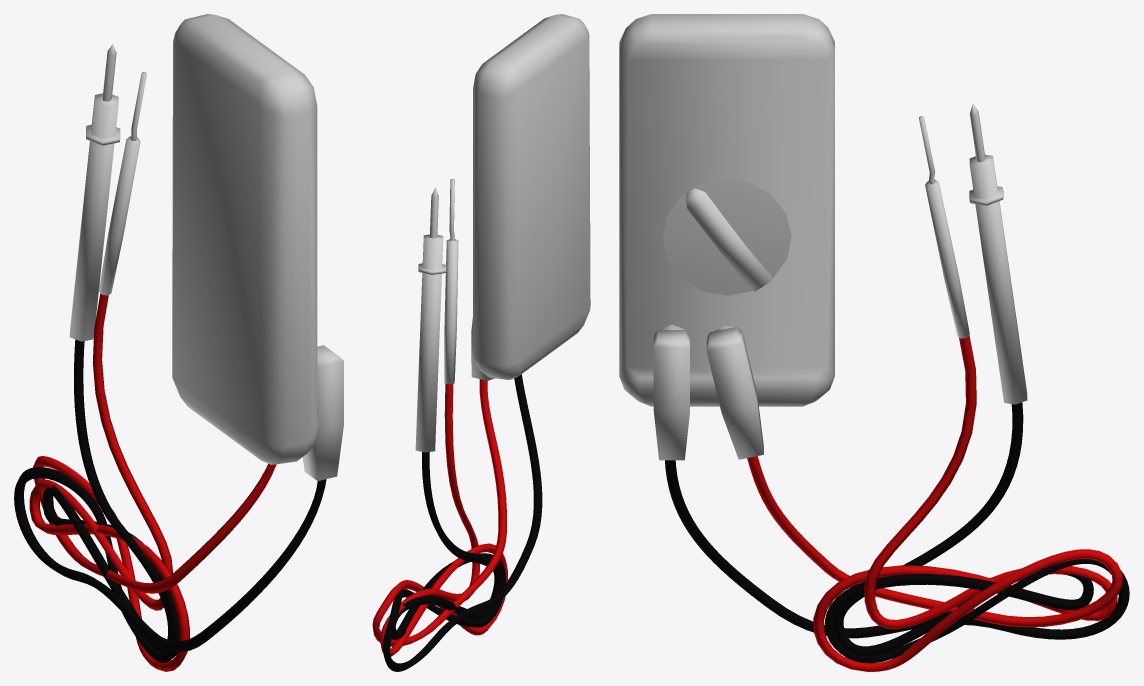
The model's file is multimetr.obj.
The picture shows the model from 3 angles, left to right: view 1: azimuth 30°, elevation 25°; view 2: azimuth 150°, elevation 25°; view 3: azimuth 270°, elevation 25°; orthographic projection. The views are drawn at different scales.
Parts seen in each view (by area): view 1: tester_low.001, BezierCurve, BezierCurve.001, probe_standart_low.001, connector_low.002, probe_diy_low.001; view 2: tester_low.001, BezierCurve, BezierCurve.001, probe_standart_low.001, probe_diy_low.001; view 3: tester_low.001, BezierCurve.001, BezierCurve, selector_wheel_low.001, probe_standart_low.001, connector_low.003, connector_low.002, probe_diy_low.001.
Part boxes in pixels (x1,y1,x2,y2): tester_low.001: (172, 14, 318, 464); BezierCurve: (14, 339, 326, 662); BezierCurve.001: (29, 293, 276, 671); probe_standart_low.001: (69, 44, 120, 341); connector_low.002: (302, 345, 343, 480); probe_diy_low.001: (98, 72, 146, 295); tester_low.001: (471, 14, 590, 379); BezierCurve: (383, 374, 542, 671); BezierCurve.001: (372, 379, 507, 656); probe_standart_low.001: (415, 187, 446, 452); probe_diy_low.001: (444, 179, 458, 384); tester_low.001: (619, 14, 834, 406); BezierCurve.001: (747, 335, 1122, 671); BezierCurve: (665, 402, 1129, 663); selector_wheel_low.001: (662, 179, 791, 295); probe_standart_low.001: (969, 104, 1027, 404); connector_low.003: (706, 325, 763, 459); connector_low.002: (653, 324, 689, 460); probe_diy_low.001: (919, 116, 969, 338).
Bounding box in the file's own units: 0.9558 × 6.71 × 4.7.
